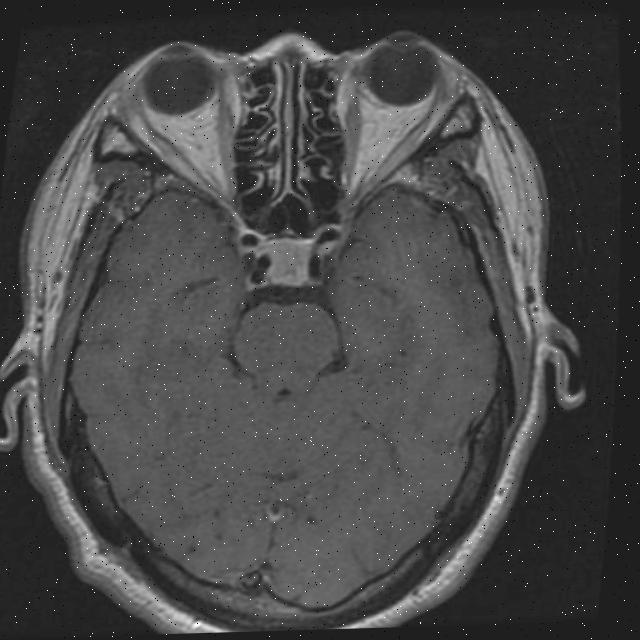Pituitary: (264, 236, 315, 287)
